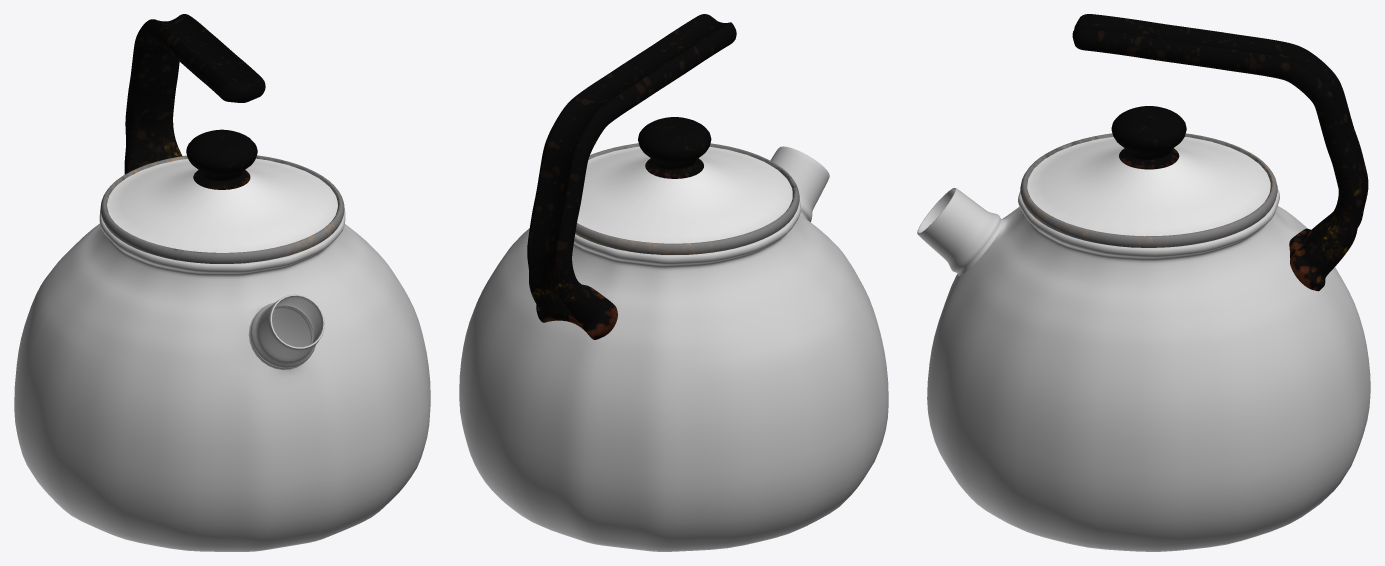
Rendered from teapot1.fbx.
3 views of the same model, side by side, from view 1: azimuth 30°, elevation 25°; view 2: azimuth 150°, elevation 25°; view 3: azimuth 270°, elevation 25° (orthographic). The views are drawn at different scales.
Parts seen in each view (by area): view 1: Ручник_Cube:006, Ручник_Cube:006.001; view 2: Ручник_Cube:006, Ручник_Cube:006.001; view 3: Ручник_Cube:006, Ручник_Cube:006.001.
Boxes of the visible parts, bbox=[...] form: Ручник_Cube:006: bbox=[14, 14, 430, 551]; Ручник_Cube:006.001: bbox=[100, 129, 344, 263]; Ручник_Cube:006: bbox=[459, 14, 888, 551]; Ручник_Cube:006.001: bbox=[575, 117, 799, 254]; Ручник_Cube:006: bbox=[917, 14, 1370, 551]; Ручник_Cube:006.001: bbox=[1020, 106, 1277, 247].
Bounding box in the file's own units: 103 × 121 × 106.
